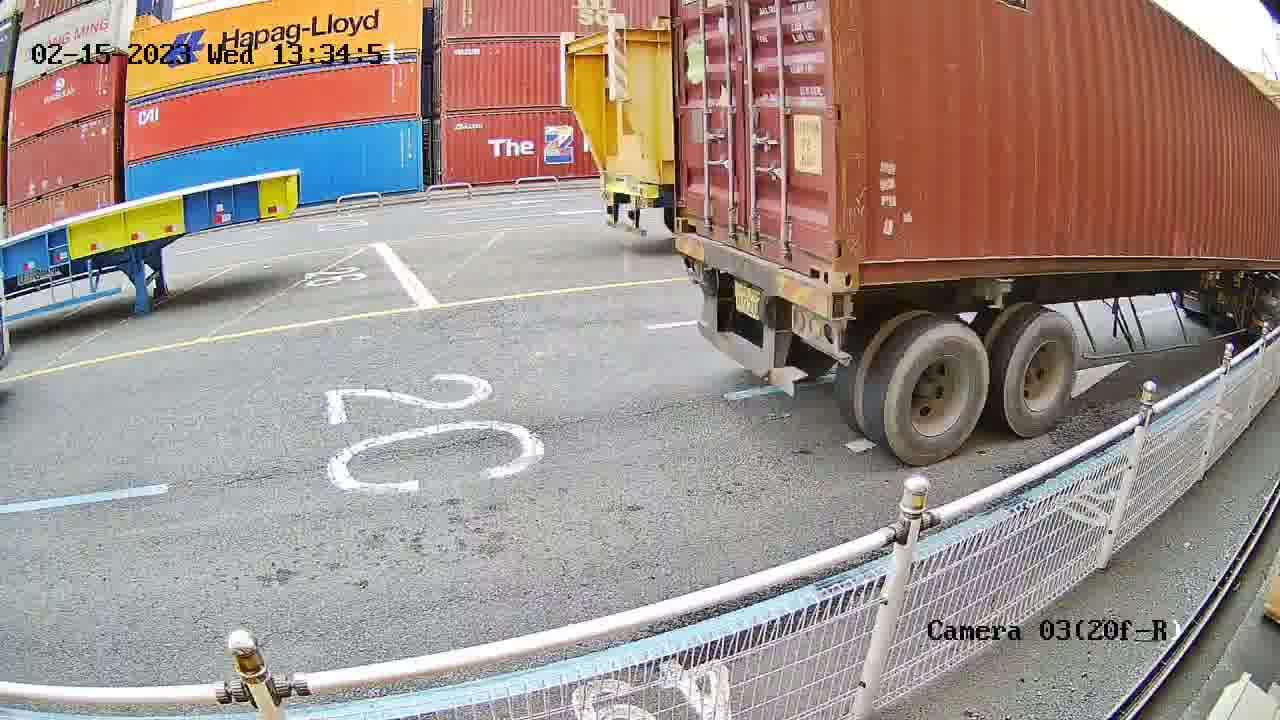Chassis: (672, 236, 845, 330)
Cone: (830, 293, 857, 324)
Hole_L: (835, 219, 895, 286), (673, 187, 718, 243)
Hole_R: (797, 216, 836, 292)
Tire: (883, 328, 988, 469), (999, 317, 1080, 435)
